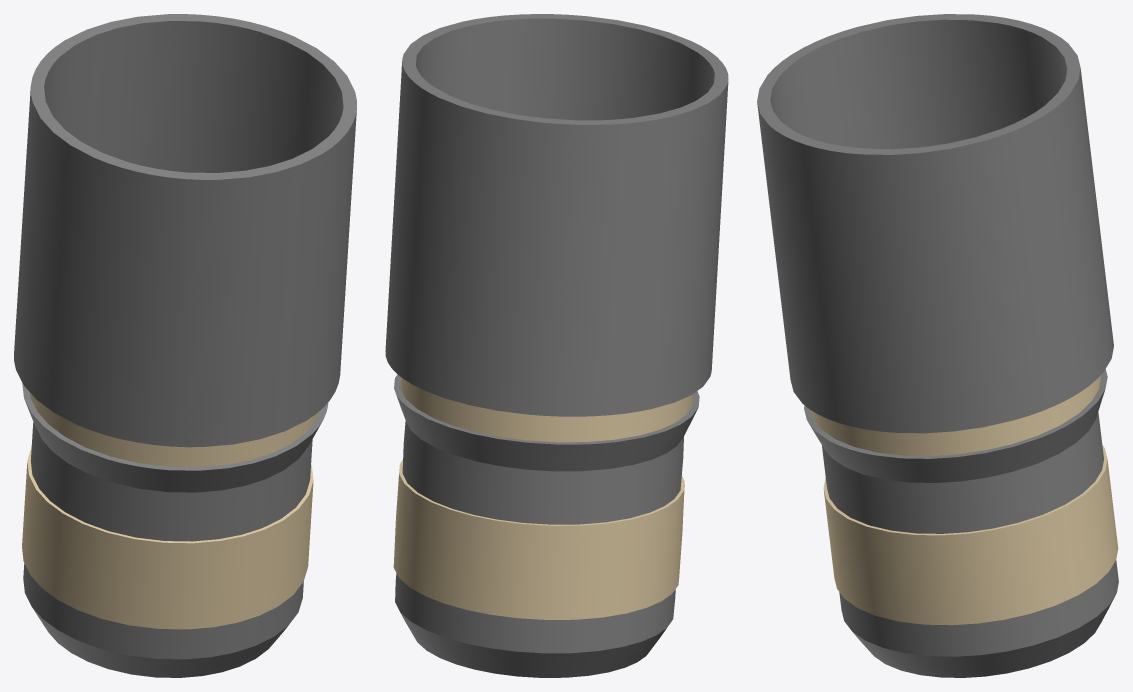
The model's file is Body25.001.dae.
The picture shows the model from 3 angles, left to right: view 1: azimuth 30°, elevation 25°; view 2: azimuth 150°, elevation 25°; view 3: azimuth 270°, elevation 25°; orthographic projection.
Parts seen in each view (by area): view 1: Body25_000; view 2: Body25_000; view 3: Body25_000.
Boxes of the visible parts, x1,y1,x2,y2 form: Body25_000: (14,14,356,677); Body25_000: (385,14,728,677); Body25_000: (757,14,1118,677).
Bounding box in the file's own units: 0.049 × 0.0545 × 0.0946.
